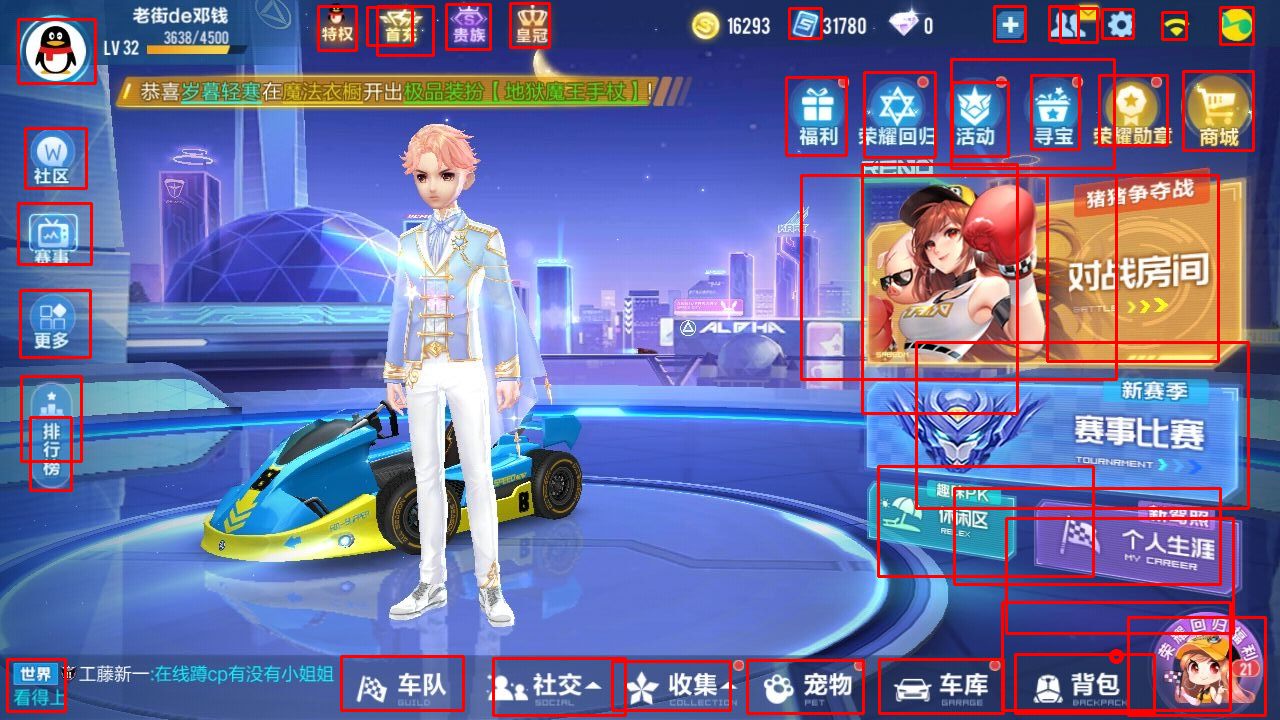other: (1151, 179, 1259, 495), (981, 210, 1113, 418), (14, 206, 215, 291), (21, 333, 216, 420), (23, 641, 281, 705), (1006, 642, 1263, 704), (25, 13, 218, 87), (24, 97, 210, 170), (24, 454, 191, 528), (341, 646, 467, 699), (771, 648, 898, 696), (631, 648, 754, 697), (483, 648, 606, 696), (22, 564, 78, 620), (1164, 18, 1213, 59), (893, 20, 934, 55), (755, 17, 802, 47), (828, 17, 866, 54)
